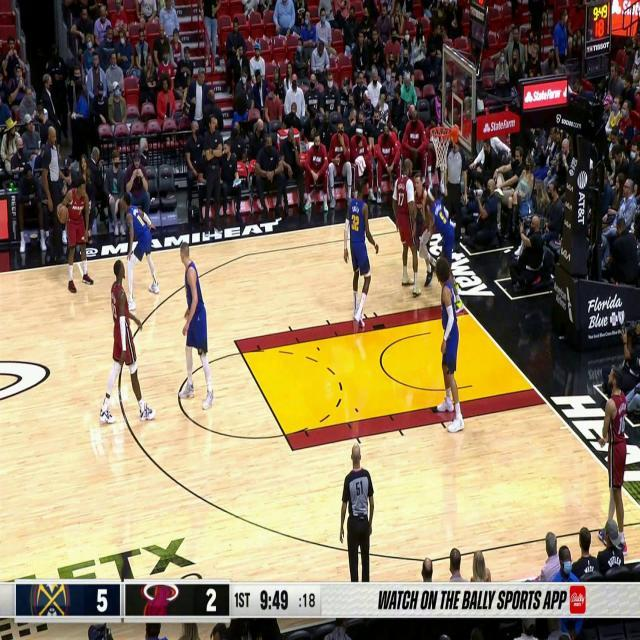rim: (58, 206, 68, 223)
